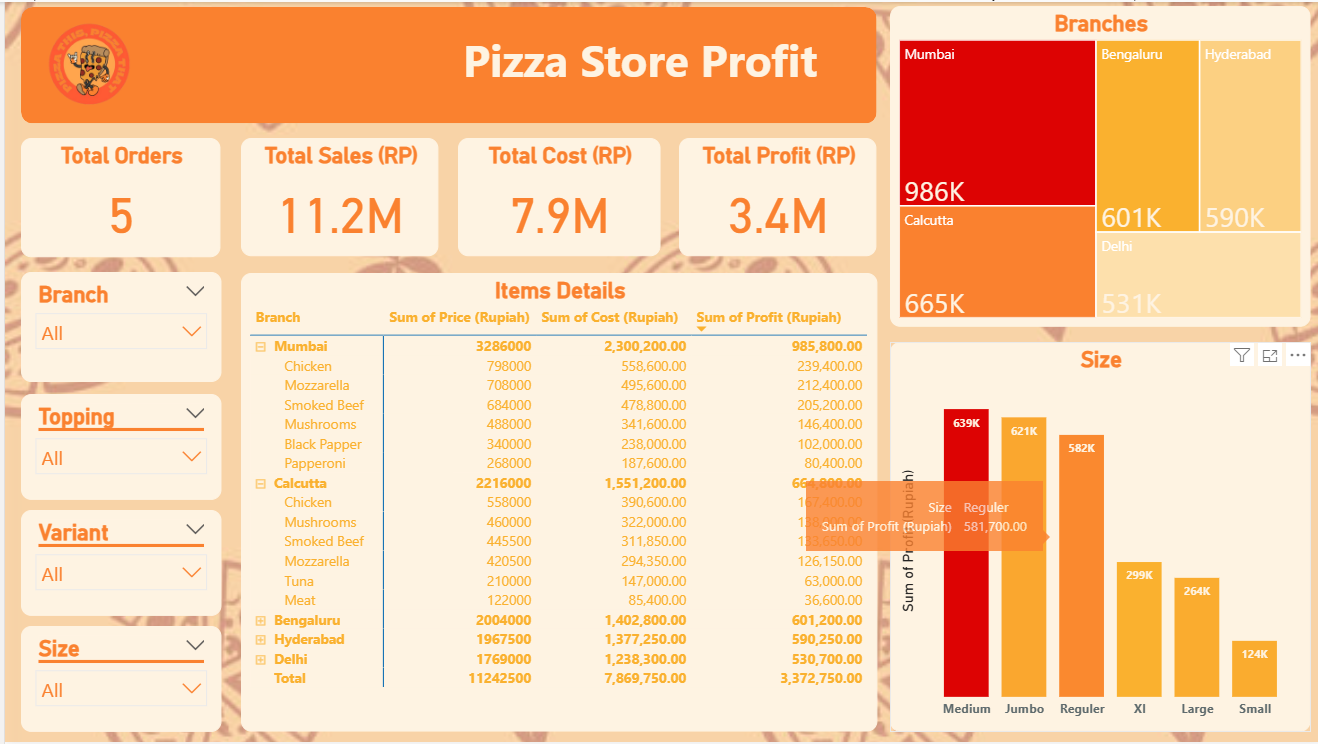

The page's visual inventory and layout, read from the dashboard file:
{"tool":"powerbi","page":{"name":"Profit","canvas":[1280,720],"ordinal":1},"visuals":[{"type":"shape","box":[15.7,4.8,832.4,113.4],"z":0},{"type":"textbox","box":[375.2,22.5,472.9,77.2],"z":1000},{"type":"image","box":[15.1,1.4,133.1,119.4],"z":2000},{"type":"slicer","fields":{"Values":["pizza_mod.Branch"]},"box":[15.7,263,195.4,107.4],"z":3000},{"type":"slicer","fields":{"Values":["pizza_mod.Topping"]},"box":[15.7,380.8,195.4,102.5],"z":4000},{"type":"card","title":"Total Sales (RP)","fields":{"Values":["Sum(pizza_mod.Price (Rupiah))"]},"box":[229.5,132.6,192.4,115.5],"z":5000},{"type":"card","title":"Total Cost (RP)","fields":{"Values":["Sum(pizza_mod.Cost (Rupiah))"]},"box":[440.4,132.6,196.7,115.5],"z":6000},{"type":"card","title":"Total Profit (RP)","fields":{"Values":["Sum(pizza_mod.Profit (Rupiah))"]},"box":[655.7,132.6,192.4,115.5],"z":7000},{"type":"treemap","title":"Branches","fields":{"Group":["pizza_mod.Branch"],"Values":["Sum(pizza_mod.Profit (Rupiah))"]},"box":[860.9,4.3,409.1,312.2],"z":8000},{"type":"slicer","fields":{"Values":["pizza_mod.Size"]},"box":[15.7,606.8,195.4,102.5],"z":9000},{"type":"slicer","fields":{"Values":["pizza_mod.Variant"]},"box":[15.7,493.8,195.4,102.5],"z":10000},{"type":"card","title":"Total Orders","fields":{"Values":["Count(pizza_mod.Branch)"]},"box":[15.7,132.7,194.2,115.8],"z":11000},{"type":"pivotTable","title":"Items Details","fields":{"Rows":["pizza_mod.Branch","pizza_mod.Topping"],"Values":["Sum(pizza_mod.Price (Rupiah))","Sum(pizza_mod.Cost (Rupiah))","Sum(pizza_mod.Profit (Rupiah))"]},"box":[229.2,263.5,618.9,446],"z":12000},{"type":"clusteredColumnChart","title":"Size","fields":{"Category":["pizza_mod.Size"],"Y":["Sum(pizza_mod.Profit (Rupiah))"]},"box":[860.9,330.7,409.1,379.2],"z":13000}]}

Visuals, with their boxes in screenshot pixels (x1, y1, x2, y2), scaled from the page's 1280x720 canvas onto the 1318x744 screenshot:
shape: {"left": 16, "top": 5, "right": 873, "bottom": 122}
textbox: {"left": 386, "top": 23, "right": 873, "bottom": 103}
image: {"left": 16, "top": 1, "right": 153, "bottom": 125}
slicer - pizza_mod.Branch: {"left": 16, "top": 272, "right": 217, "bottom": 383}
slicer - pizza_mod.Topping: {"left": 16, "top": 393, "right": 217, "bottom": 499}
"Total Sales (RP)" card: {"left": 236, "top": 137, "right": 434, "bottom": 256}
"Total Cost (RP)" card: {"left": 453, "top": 137, "right": 656, "bottom": 256}
"Total Profit (RP)" card: {"left": 675, "top": 137, "right": 873, "bottom": 256}
"Branches" treemap: {"left": 886, "top": 4, "right": 1308, "bottom": 327}
slicer - pizza_mod.Size: {"left": 16, "top": 627, "right": 217, "bottom": 733}
slicer - pizza_mod.Variant: {"left": 16, "top": 510, "right": 217, "bottom": 616}
"Total Orders" card: {"left": 16, "top": 137, "right": 216, "bottom": 257}
"Items Details" pivotTable: {"left": 236, "top": 272, "right": 873, "bottom": 733}
"Size" clusteredColumnChart: {"left": 886, "top": 342, "right": 1308, "bottom": 734}
